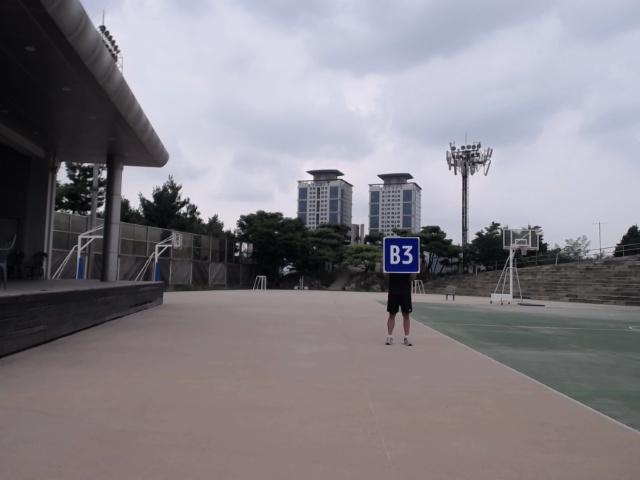delivery_b3: (383, 236, 421, 273)
